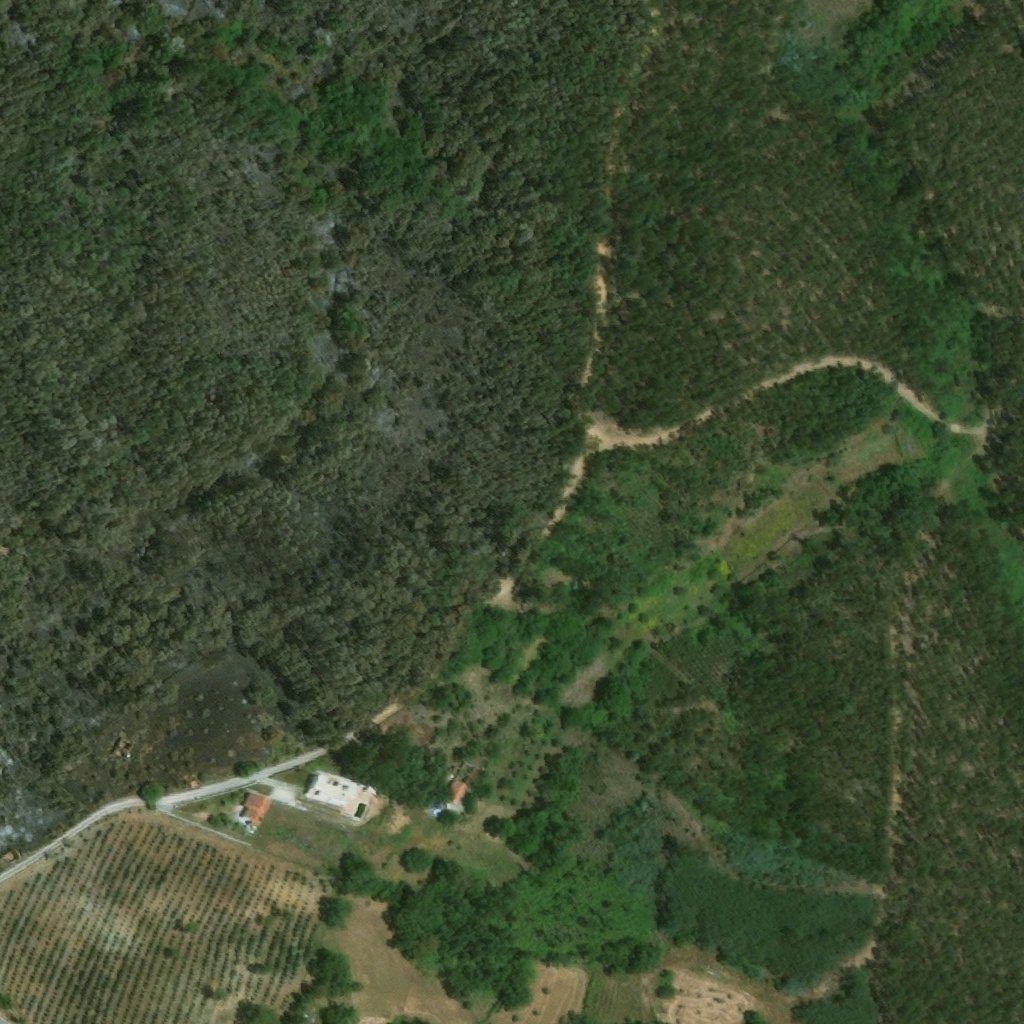0 no-damage: (303, 771, 365, 810), (236, 791, 273, 836), (444, 777, 472, 807), (187, 781, 198, 789)
3 destroyed: (112, 735, 136, 761)
